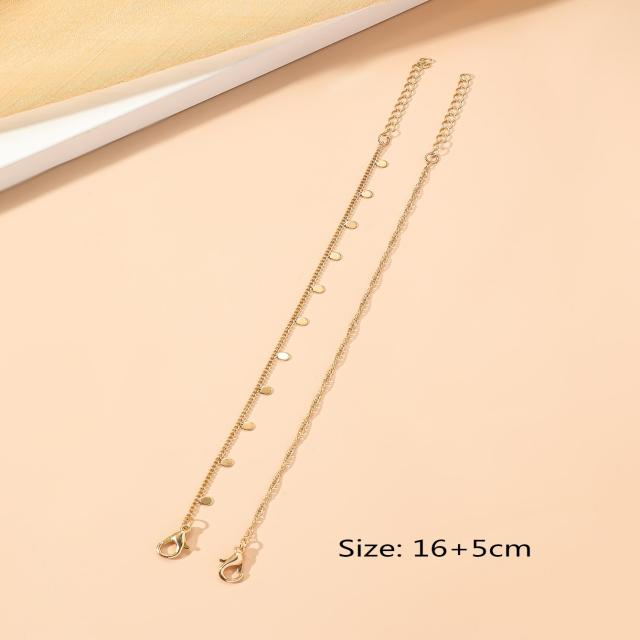bracelet: (132, 21, 564, 608)
